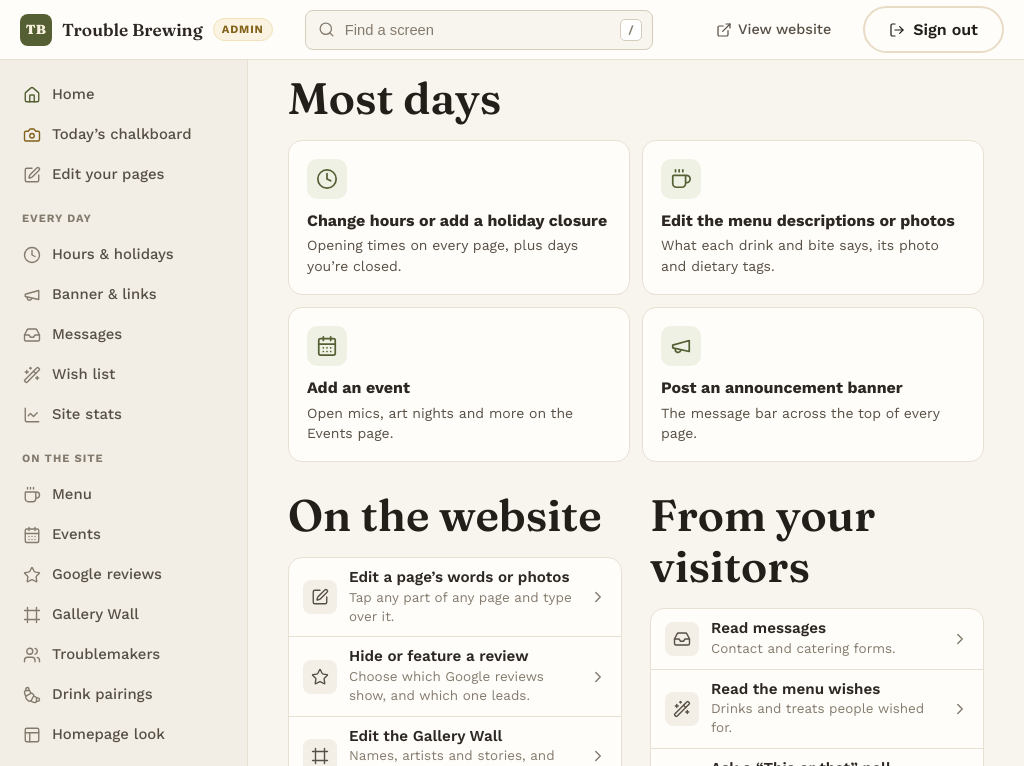
Scenario: admin home › the "{}" card goes to /admin/quick-blocks and says what it changes
(page scrolled)
Step 1. Click the link "Post an announcement banner" → (813, 385), box 642,307 -> 984,462
(page scrolled)
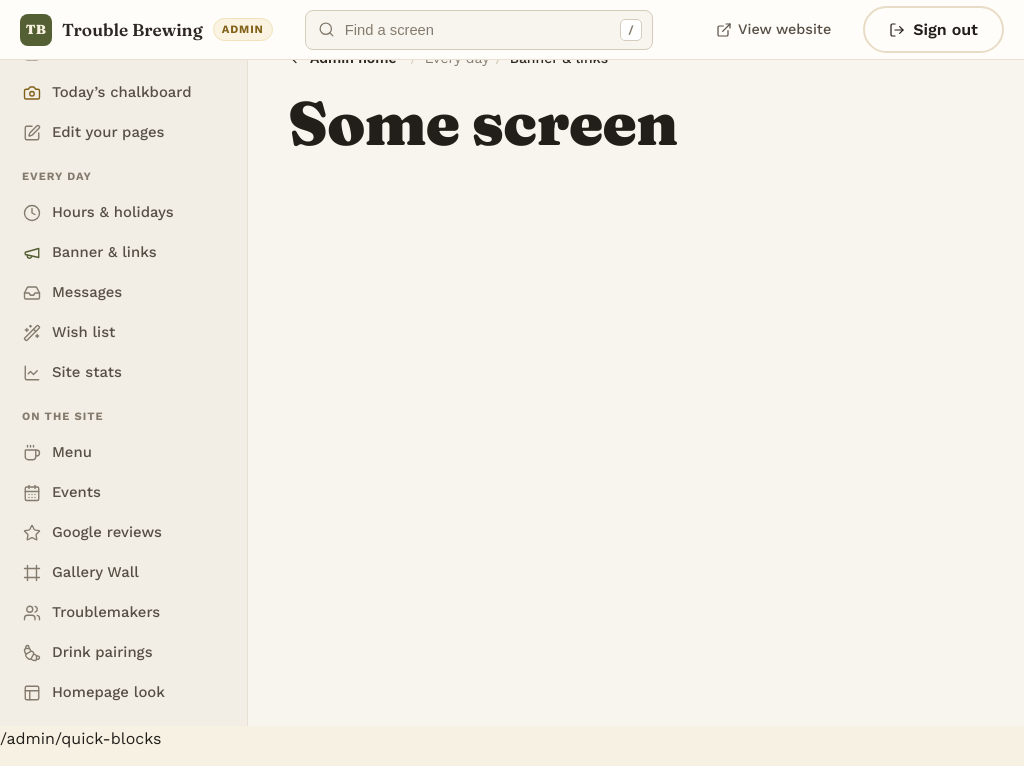
Check: the text with test id "where" reads "/admin/quick-blocks", box 0,729 -> 162,748
